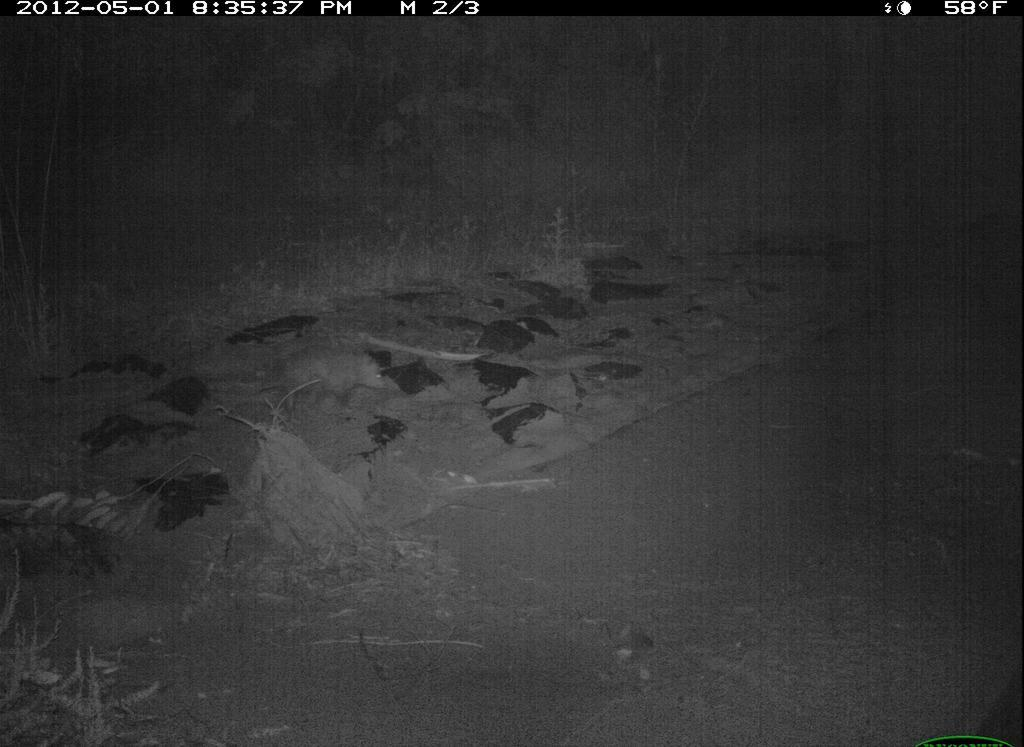opossum: (245, 337, 408, 428)
